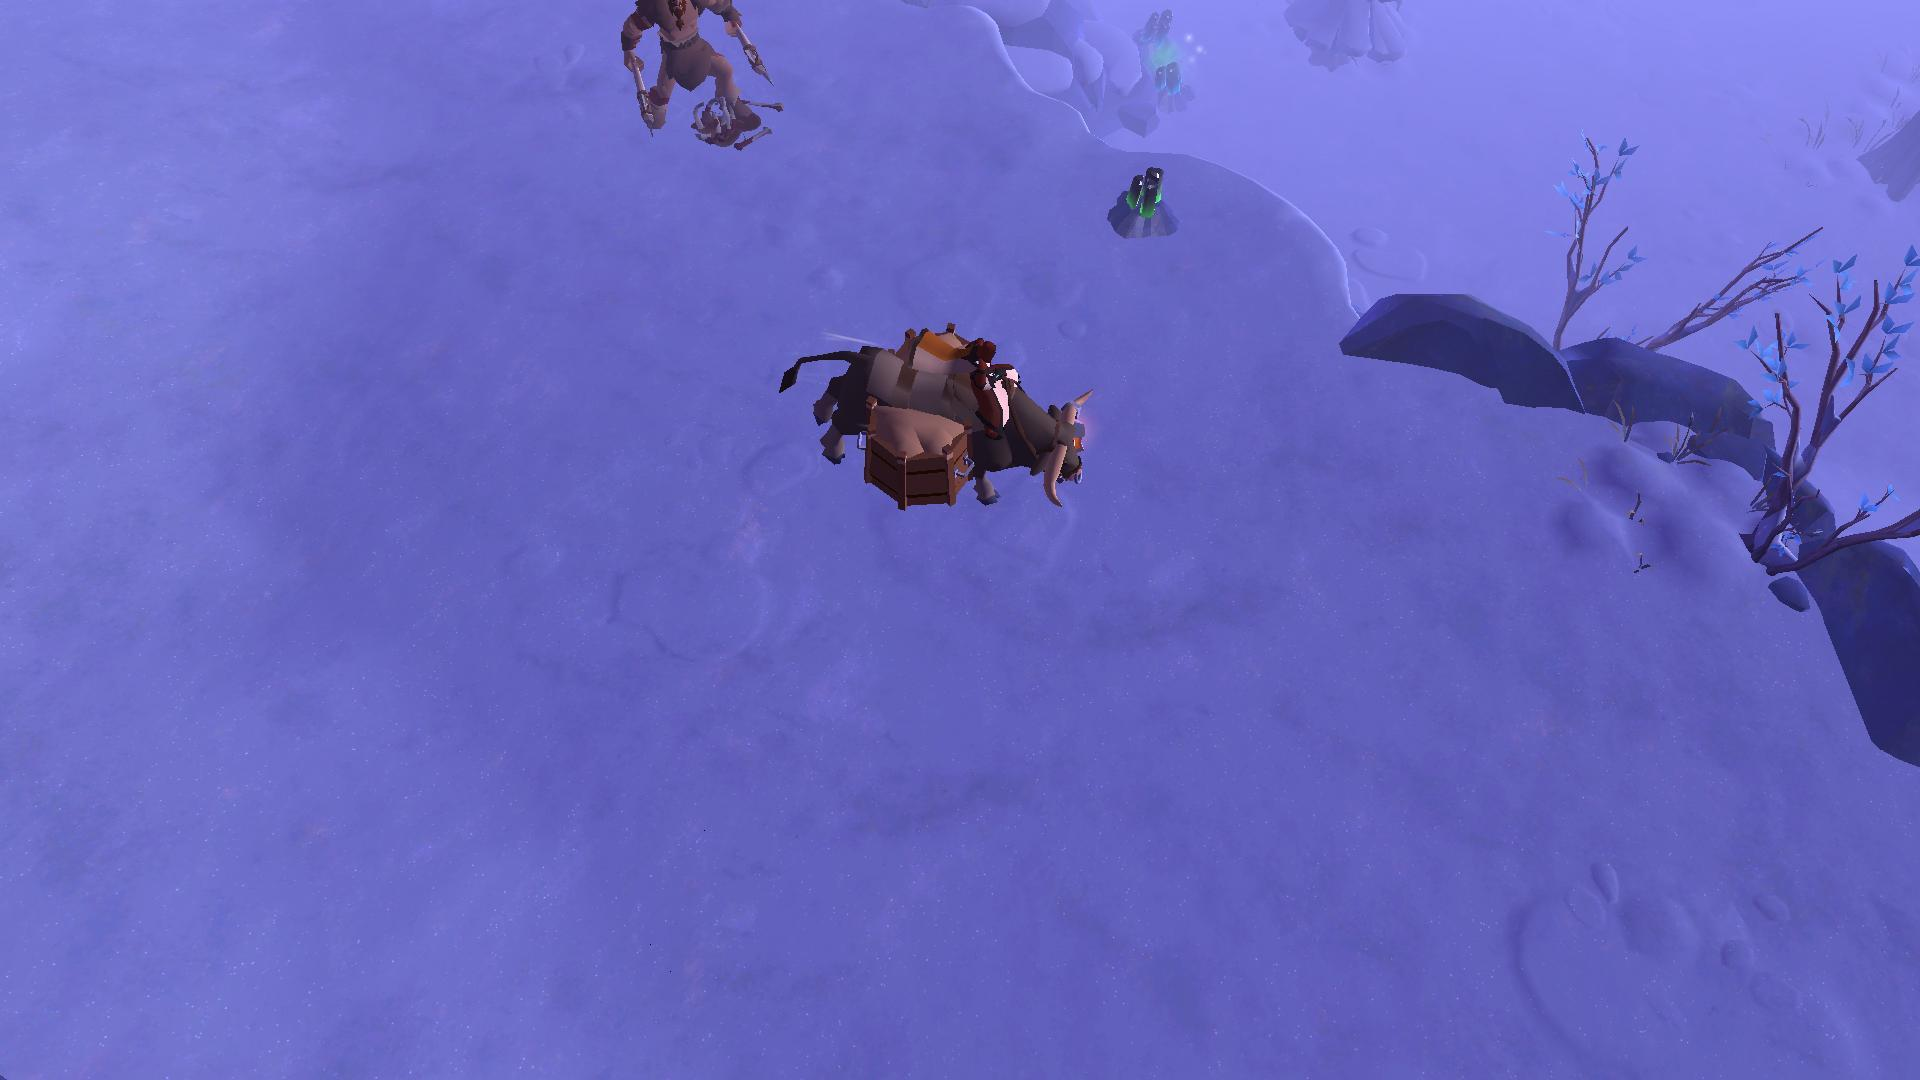enemy_factionKeeper: (617, 0, 757, 141)
ore_t3: (1118, 161, 1178, 227)
ore_t4: (1126, 9, 1176, 57), (1150, 61, 1185, 103)
